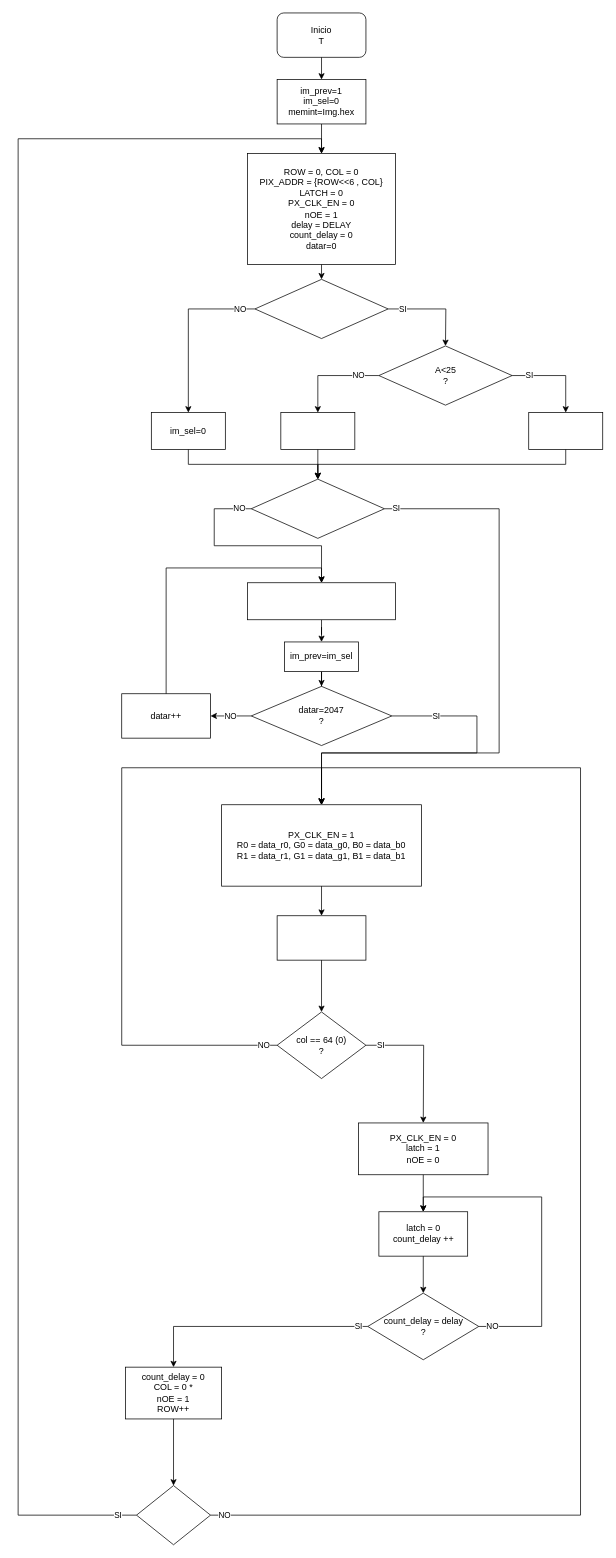
This 616x1558 diagram has some shape labels left out. The shapes that lost their labels are listed below. From the top down, each one's centre as x and y in pixels, then its label:
At (x=321, y=309): "A<35 ?".
At (x=317, y=431): "im_sel=2048".
At (x=565, y=431): "im_sel=4095".
At (x=317, y=508): "im_prev==im_sel ?".
At (x=321, y=601): "MEMEXT=MEMINT[im_sel+datar]".
At (x=321, y=937): "COL++".
At (x=173, y=1515): "ROW = 32 ?".
